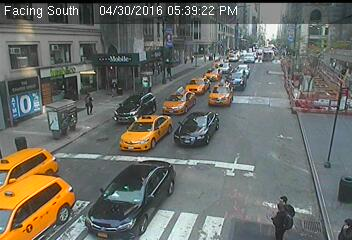neg: (299, 113, 323, 146), (268, 121, 287, 146), (203, 73, 221, 98), (236, 27, 252, 49), (35, 76, 51, 98), (326, 105, 342, 127), (203, 154, 219, 175), (180, 112, 195, 132), (281, 35, 296, 55), (209, 17, 222, 34), (241, 117, 253, 133), (257, 71, 269, 86), (319, 78, 331, 93), (68, 144, 79, 158), (139, 39, 150, 53), (129, 132, 139, 146), (313, 45, 323, 59), (106, 34, 116, 47), (29, 41, 38, 54), (172, 25, 181, 37), (69, 29, 78, 41), (149, 165, 157, 176)
pos: (266, 202, 294, 239), (274, 194, 297, 225), (77, 90, 100, 120), (336, 216, 351, 237), (162, 65, 175, 82), (188, 54, 197, 65), (181, 55, 188, 65), (209, 49, 216, 59)
